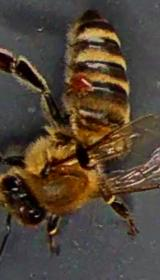varroa_mite: (60, 59, 102, 104)
